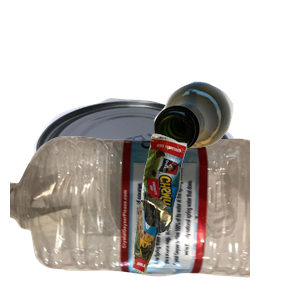glass: (151, 79, 300, 221)
metal: (16, 96, 244, 276)
plastic: (10, 134, 250, 300)
trash: (130, 131, 300, 300)
